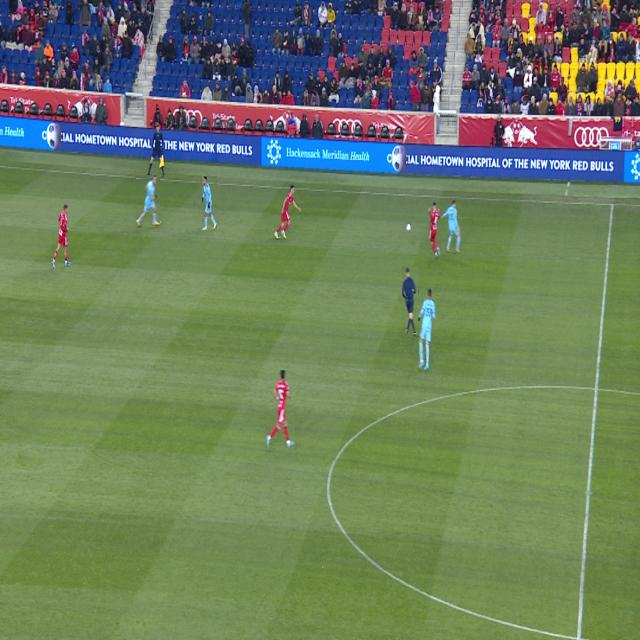football: (406, 223, 411, 232)
player: (266, 371, 295, 448), (417, 289, 436, 370), (274, 185, 301, 239), (51, 204, 70, 269), (137, 176, 160, 226), (442, 201, 461, 253), (202, 176, 217, 231), (428, 202, 440, 258)
referee: (402, 268, 418, 338)
